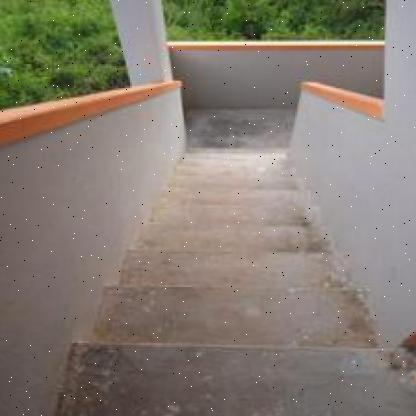stair_down: (57, 274, 365, 390)
